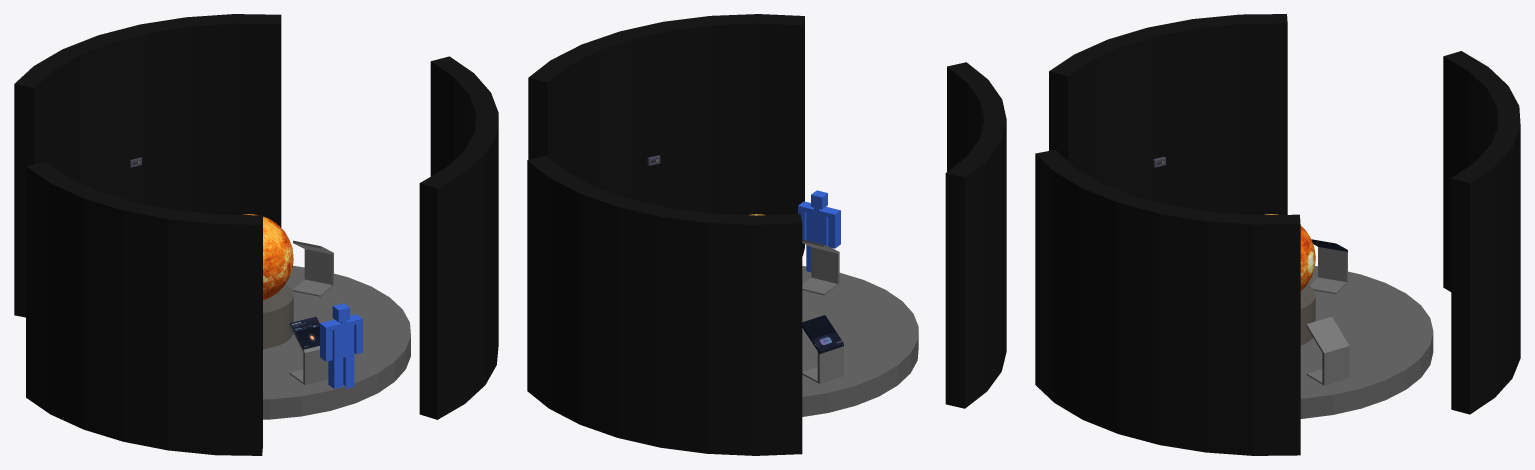
File: exploratorium-v3a.fbx
3 renders of one model, left to right at view 1: azimuth 30°, elevation 25°; view 2: azimuth 150°, elevation 25°; view 3: azimuth 270°, elevation 25°, orthographic.
Parts seen in each view (by area): view 1: surrounding-panels, dais, standin-human, star-screen, interactive-display, star-platform, informational-display-2; view 2: surrounding-panels, dais, standin-human, informational-display-1, interactive-display; view 3: surrounding-panels, dais, informational-display-2, informational-display-1, star-platform, star-screen.
Boxes of the visible parts, x1,y1,x2,y2 form: surrounding-panels: [14, 14, 498, 455]; dais: [263, 265, 410, 419]; standin-human: [320, 303, 362, 388]; star-screen: [242, 214, 293, 300]; interactive-display: [289, 316, 328, 385]; star-platform: [263, 284, 293, 349]; informational-display-2: [293, 240, 333, 296]; surrounding-panels: [527, 14, 1006, 455]; dais: [802, 266, 918, 416]; standin-human: [798, 190, 840, 272]; informational-display-1: [802, 315, 843, 383]; interactive-display: [802, 239, 839, 295]; surrounding-panels: [1035, 14, 1520, 455]; dais: [1300, 266, 1433, 418]; informational-display-2: [1306, 316, 1349, 385]; informational-display-1: [1310, 239, 1347, 294]; star-platform: [1300, 284, 1315, 345]; star-screen: [1264, 214, 1315, 290].
Bounding box in the file's own units: 1124 × 638 × 1095.
